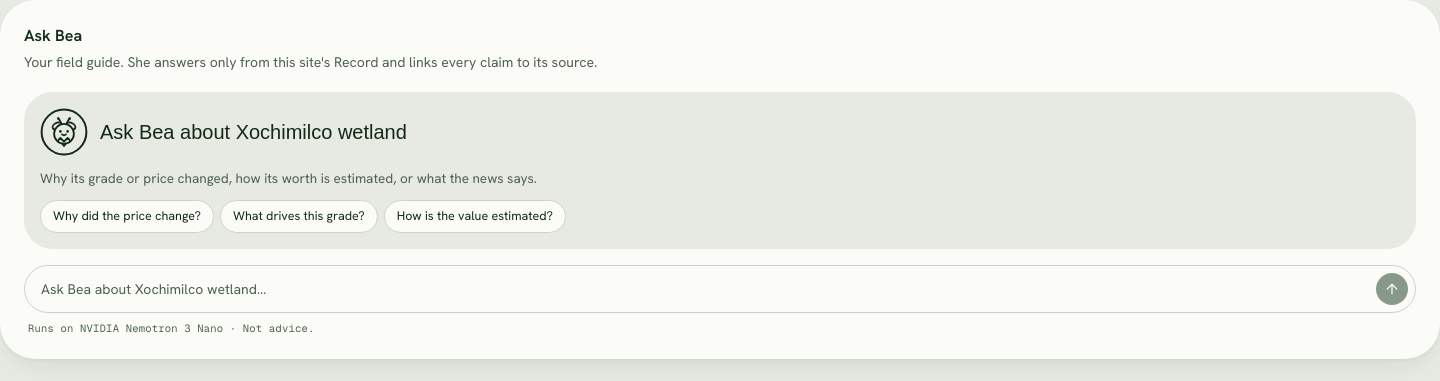
CopilotChat › explains errors before the stream
Click the button "What drives this grade?". click: point(299, 217)
box: [220, 200, 378, 233]
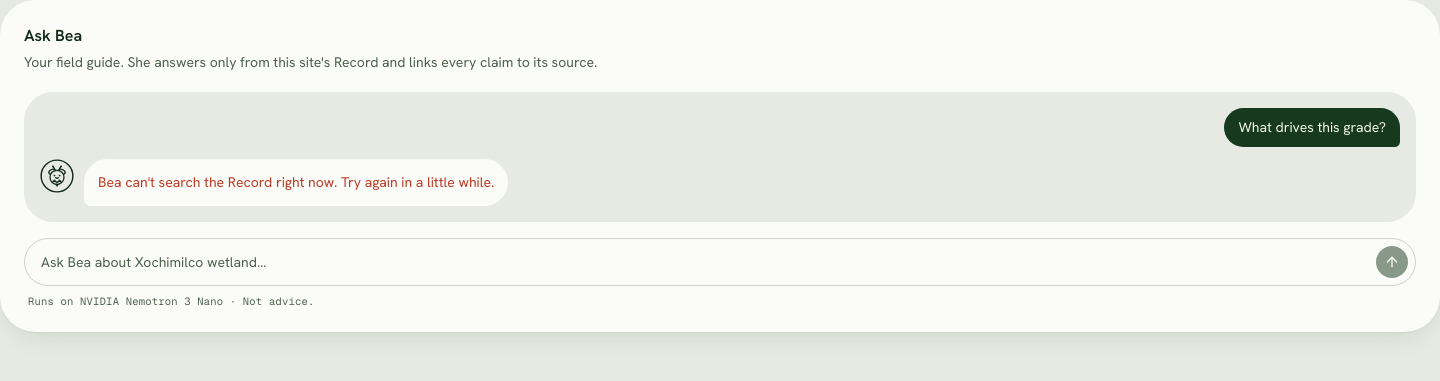
Expected: the message shows "Bea can't search the Record right now.", [98, 173, 494, 191]
